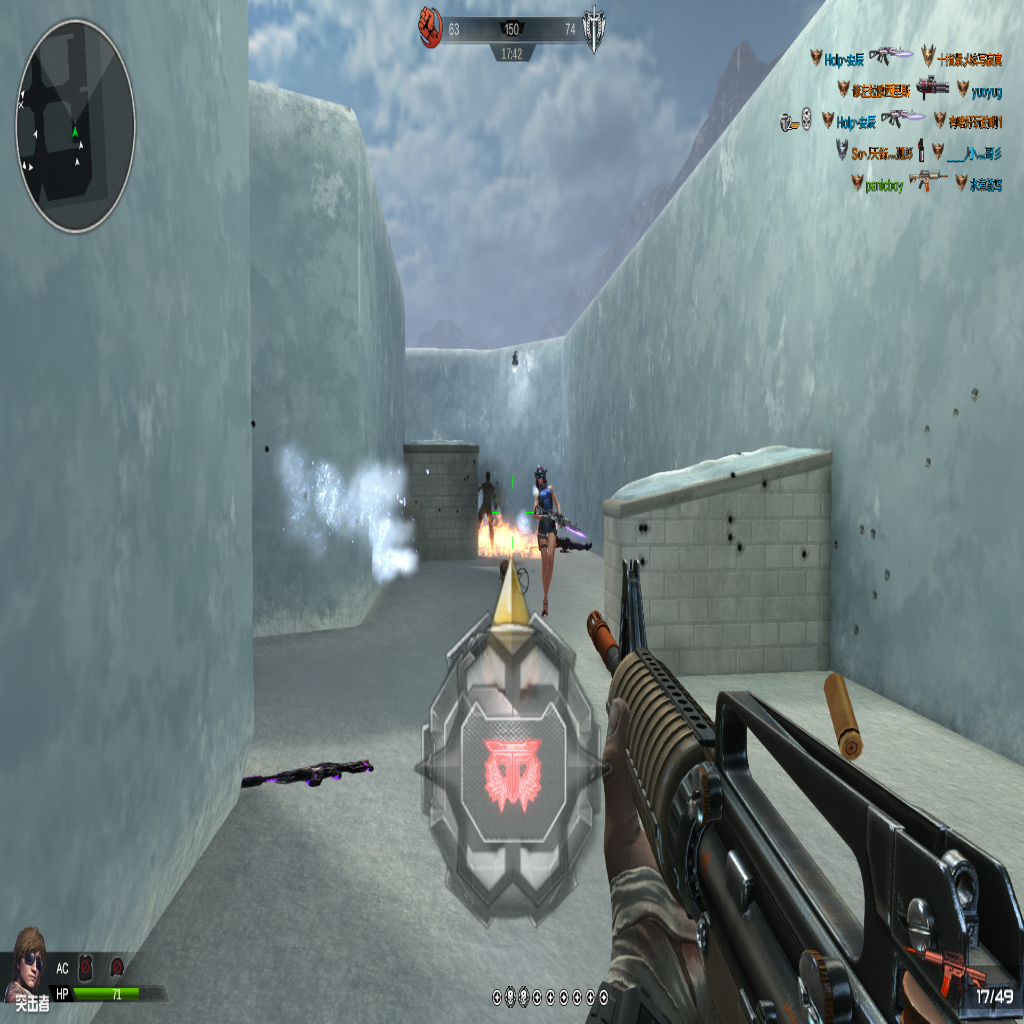ct: (532, 468, 564, 620), (476, 468, 497, 536)
